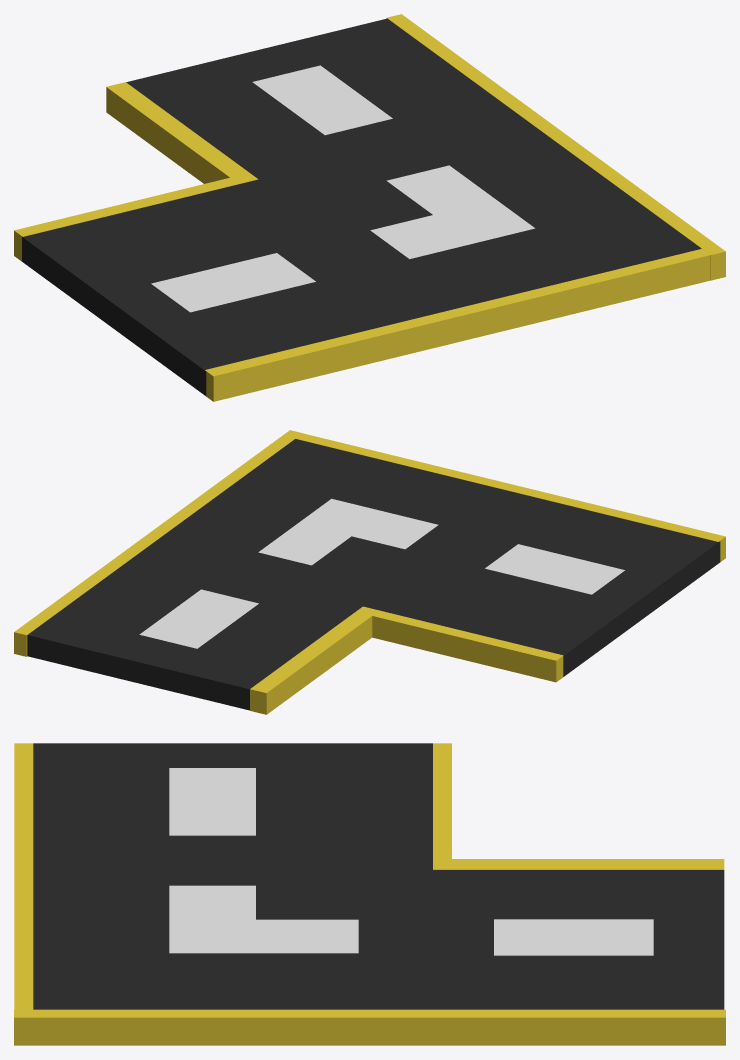
The model's file is CornerRoad.fbx.
3 views of the same model, one above another, from view 1: azimuth 30°, elevation 25°; view 2: azimuth 150°, elevation 25°; view 3: azimuth 270°, elevation 25° (orthographic). The views are drawn at different scales.
Visible parts, largest first — view 1: CornerRoad, YellowLinesOuterX, Plane.002, YellowLinesInnerX, YellowLinesOuterY, Plane.001, Plane; view 2: CornerRoad, YellowLinesInnerX, Plane.002, YellowLinesOuterY, Plane.001, YellowLinesOuterX, Plane; view 3: CornerRoad, YellowLinesOuterY, Plane.002, Plane, Plane.001, YellowLinesInnerX, YellowLinesOuterX.
Boxes of the visible parts, <box> form: CornerRoad: <box>22,18,701,396</box>; YellowLinesOuterX: <box>205,249,712,401</box>; Plane.002: <box>370,165,535,258</box>; YellowLinesInnerX: <box>14,82,258,261</box>; YellowLinesOuterY: <box>386,14,725,280</box>; Plane.001: <box>151,253,315,312</box>; Plane: <box>252,65,392,135</box>; CornerRoad: <box>27,439,720,710</box>; YellowLinesInnerX: <box>250,606,563,714</box>; Plane.002: <box>258,498,438,565</box>; YellowLinesOuterY: <box>14,430,302,656</box>; Plane.001: <box>485,544,624,594</box>; YellowLinesOuterX: <box>292,432,725,562</box>; Plane: <box>139,589,258,648</box>; CornerRoad: <box>33,743,724,1009</box>; YellowLinesOuterY: <box>14,1009,725,1045</box>; Plane.002: <box>169,885,358,953</box>; Plane: <box>494,919,653,955</box>; Plane.001: <box>169,768,255,835</box>; YellowLinesInnerX: <box>433,743,724,869</box>; YellowLinesOuterX: <box>14,743,33,1009</box>.
Bounding box in the file's own units: 273 × 13.35 × 300.
